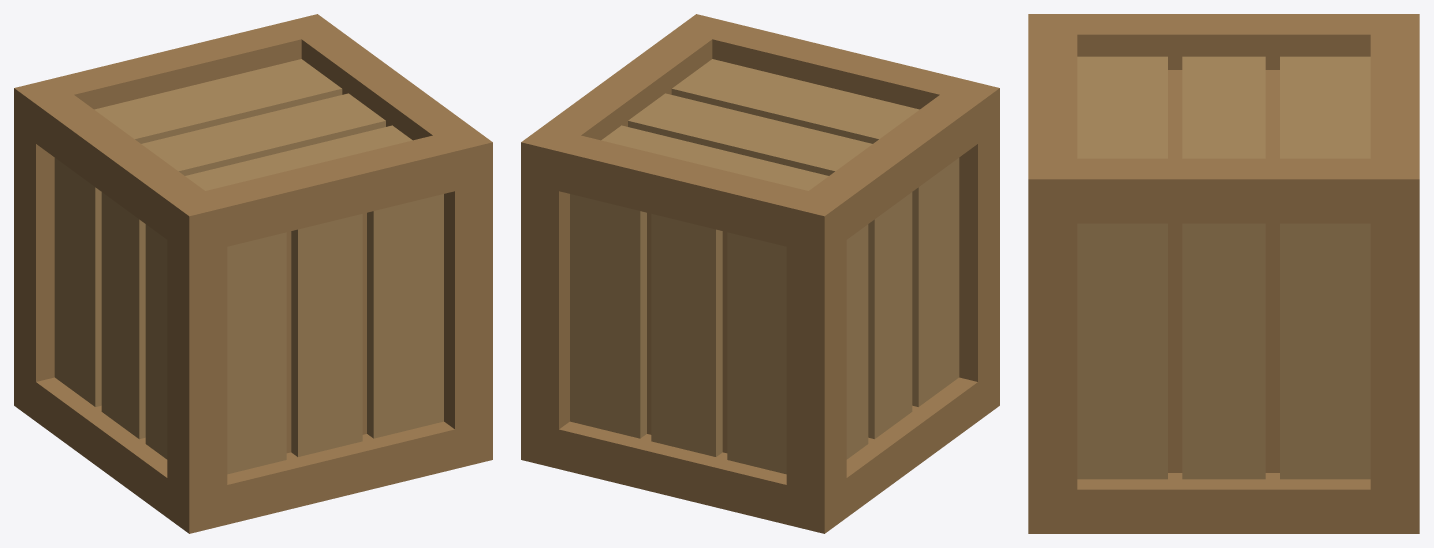
File: Crate.fbx
3 renders of one model, left to right at view 1: azimuth 30°, elevation 25°; view 2: azimuth 150°, elevation 25°; view 3: azimuth 270°, elevation 25°, orthographic. The views are drawn at different scales.
Parts seen in each view (by area): view 1: Cube.006; view 2: Cube.006; view 3: Cube.006.
Boxes of the visible parts, box(x1,y1,x2,y2) form: Cube.006: box(14, 14, 492, 533); Cube.006: box(521, 14, 999, 533); Cube.006: box(1028, 14, 1419, 533).
Size of the model in its own units: 131 by 131 by 131.
